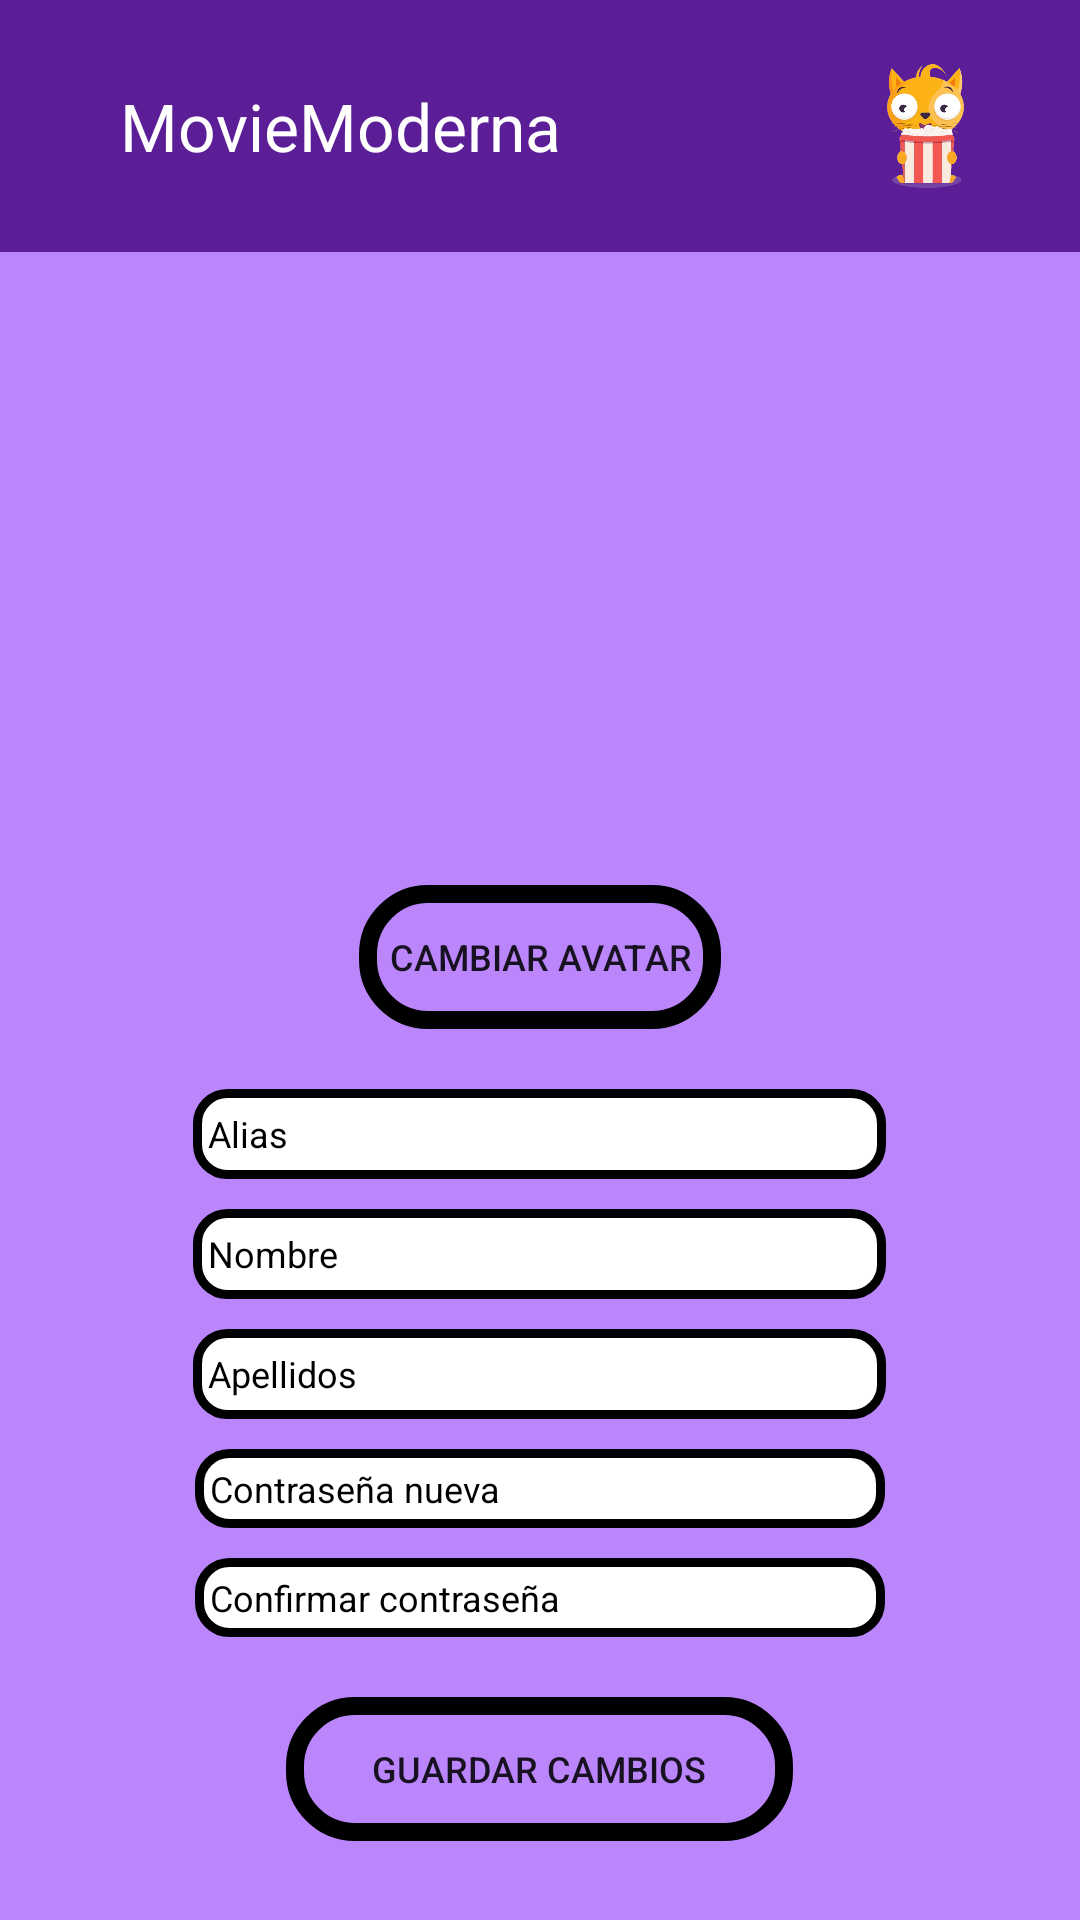

Where to tap for icons on this 1080 x 1920 app screen, as [x,y]:
gato: [925,126]
